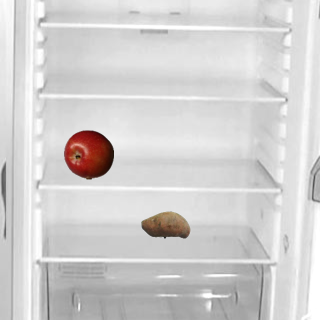Apple Braeburn: (63, 129, 113, 179)
Potato Sweet: (140, 199, 190, 249)
